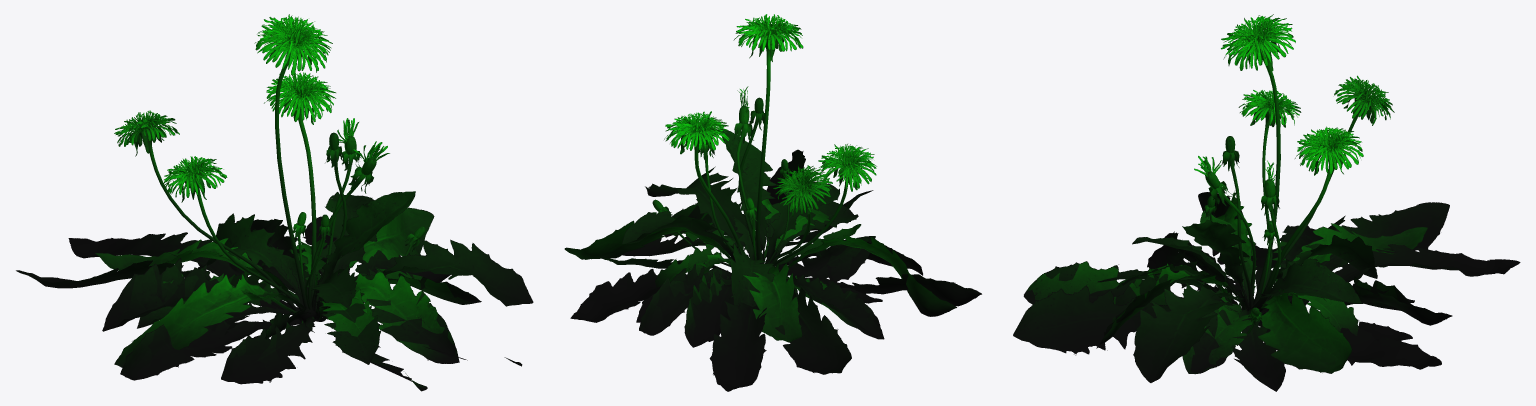
The model's file is RavineFlower.glb.
The picture shows the model from 3 angles, left to right: view 1: azimuth 30°, elevation 25°; view 2: azimuth 150°, elevation 25°; view 3: azimuth 270°, elevation 25°; orthographic projection. The views are drawn at different scales.
Visible parts, largest first — view 1: RavineFlower01, RavineFlower02, RavineFlower05, RavineFlower03, RavineFlower04; view 2: RavineFlower01, RavineFlower02, RavineFlower05, RavineFlower03, RavineFlower04; view 3: RavineFlower01, RavineFlower02, RavineFlower05, RavineFlower03, RavineFlower04.
Part boxes in pixels (x1,y1,x2,y2): RavineFlower01: (68, 14, 533, 384); RavineFlower02: (16, 72, 481, 391); RavineFlower05: (95, 207, 479, 388); RavineFlower03: (208, 118, 450, 364); RavineFlower04: (212, 212, 425, 338); RavineFlower01: (570, 14, 981, 391); RavineFlower02: (571, 86, 922, 374); RavineFlower05: (564, 191, 956, 342); RavineFlower03: (622, 111, 882, 347); RavineFlower04: (602, 197, 875, 347); RavineFlower01: (1013, 14, 1520, 382); RavineFlower02: (1023, 90, 1452, 374); RavineFlower05: (1024, 191, 1427, 373); RavineFlower03: (1097, 160, 1412, 391); RavineFlower04: (1170, 210, 1413, 350).
Size of the model in its own units: 0.2204 by 0.1702 by 0.2577.
1 material, 1 textured.
